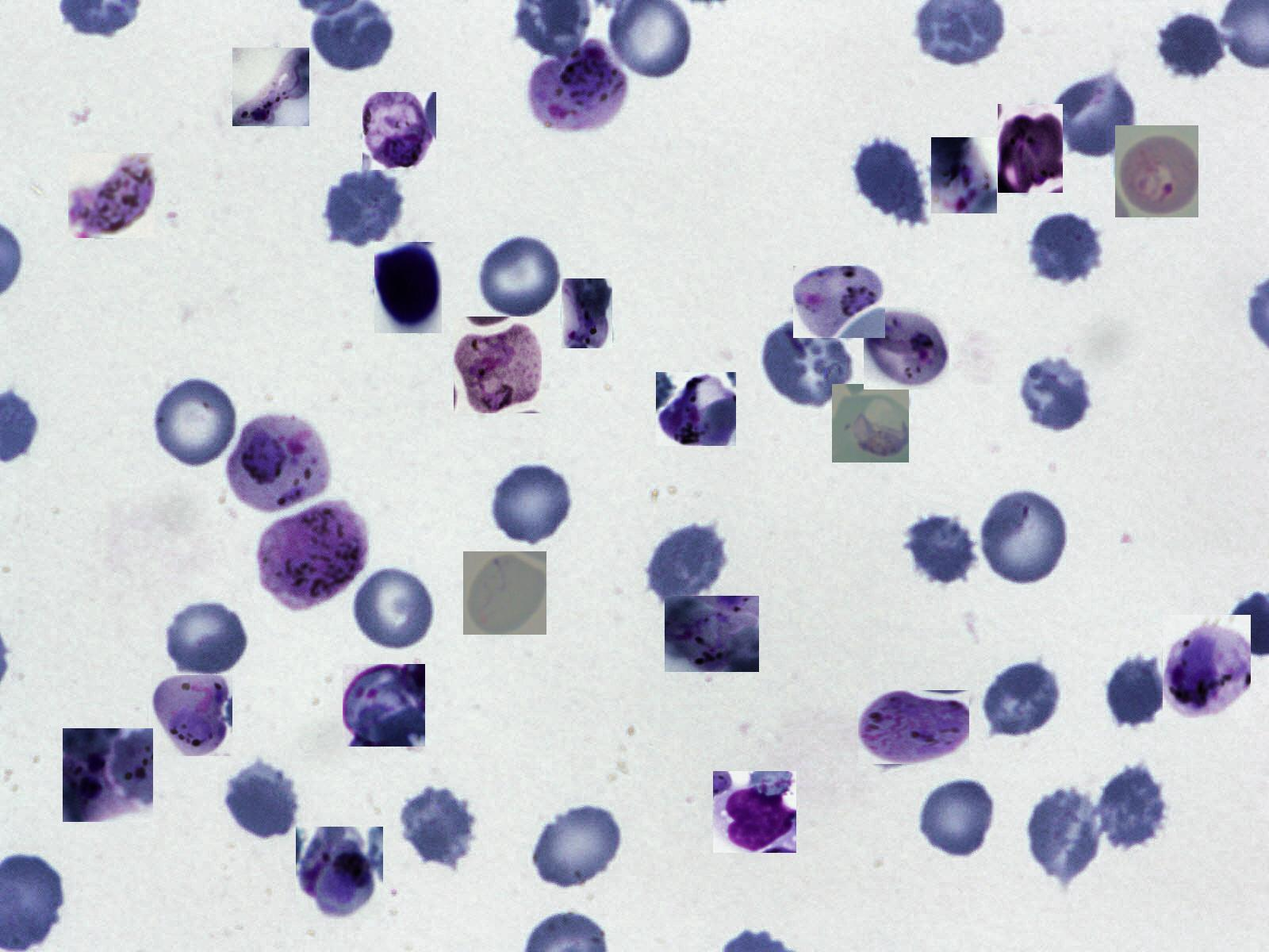Infected: (256, 502, 369, 609), (225, 415, 330, 516), (528, 40, 632, 135), (1163, 615, 1251, 718), (63, 728, 153, 822), (454, 317, 542, 413), (858, 690, 969, 764), (296, 827, 383, 919), (1115, 125, 1198, 217), (68, 153, 155, 238), (665, 596, 759, 672), (463, 551, 546, 635), (864, 308, 949, 390), (713, 771, 796, 853), (343, 664, 425, 747), (793, 266, 885, 338), (151, 676, 232, 757), (374, 242, 442, 333), (832, 384, 909, 463), (232, 48, 309, 126), (656, 372, 736, 446), (998, 104, 1063, 193), (362, 92, 436, 170), (931, 137, 997, 213), (562, 278, 612, 348)
Uninfected: (980, 486, 1072, 589), (760, 317, 857, 410), (151, 374, 240, 470), (531, 800, 624, 891), (1049, 69, 1138, 159), (475, 232, 563, 323), (1026, 783, 1104, 884), (162, 598, 253, 678), (490, 461, 575, 546), (645, 520, 730, 605), (981, 658, 1064, 740), (395, 783, 477, 866), (1095, 762, 1169, 851), (353, 568, 433, 650), (222, 758, 301, 841), (852, 136, 928, 221), (919, 777, 997, 859), (1017, 352, 1094, 434), (324, 168, 404, 246), (901, 509, 977, 588), (1153, 6, 1227, 85), (1102, 652, 1174, 731), (1029, 209, 1103, 285)
